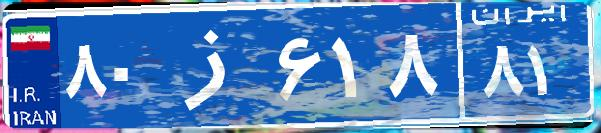0: (110, 28, 158, 105)
1: (330, 28, 385, 110), (525, 38, 570, 115)
6: (273, 28, 330, 110)
8: (385, 28, 445, 110), (57, 26, 110, 107), (475, 38, 525, 113)
ز: (158, 15, 273, 115)
